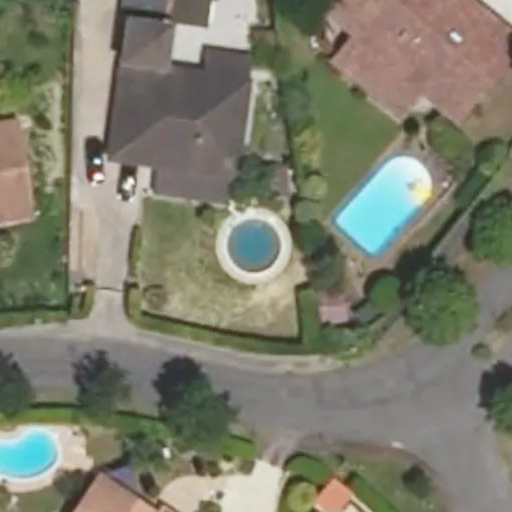pool: (333, 152, 434, 254), (223, 215, 282, 274), (1, 430, 61, 479)
